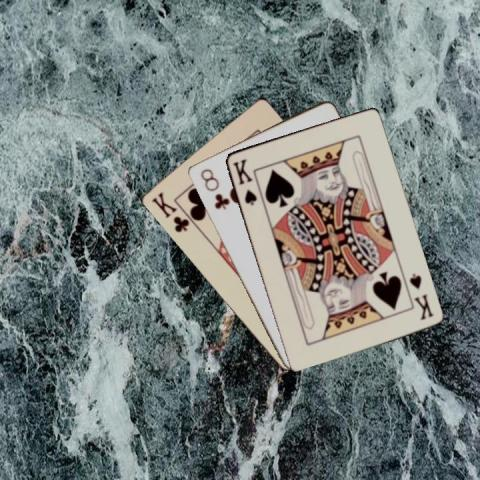8c: (197, 166, 230, 212)
Kc: (148, 189, 190, 234)
Ks: (406, 270, 435, 321), (230, 155, 258, 207)
